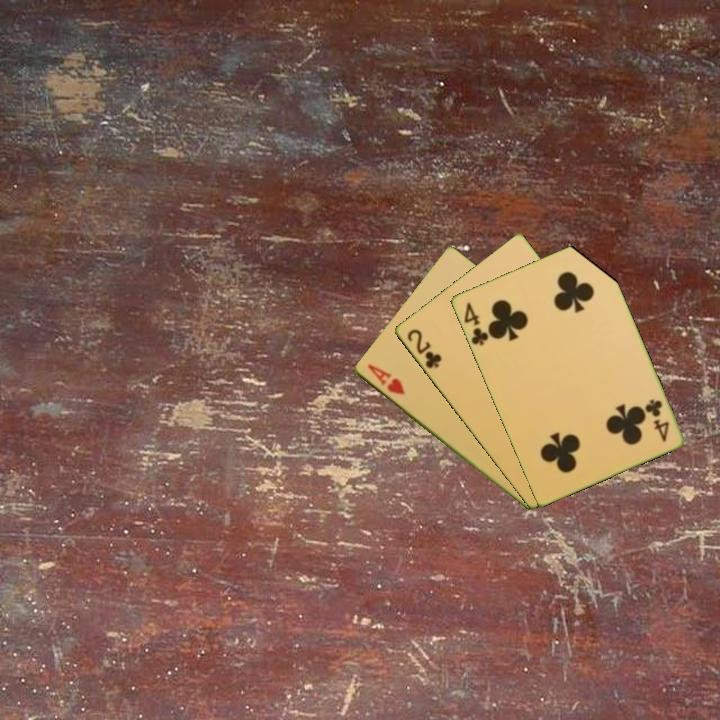2c: (403, 325, 444, 372)
4c: (460, 298, 491, 348), (642, 395, 672, 445)
Ah: (363, 360, 407, 398)
